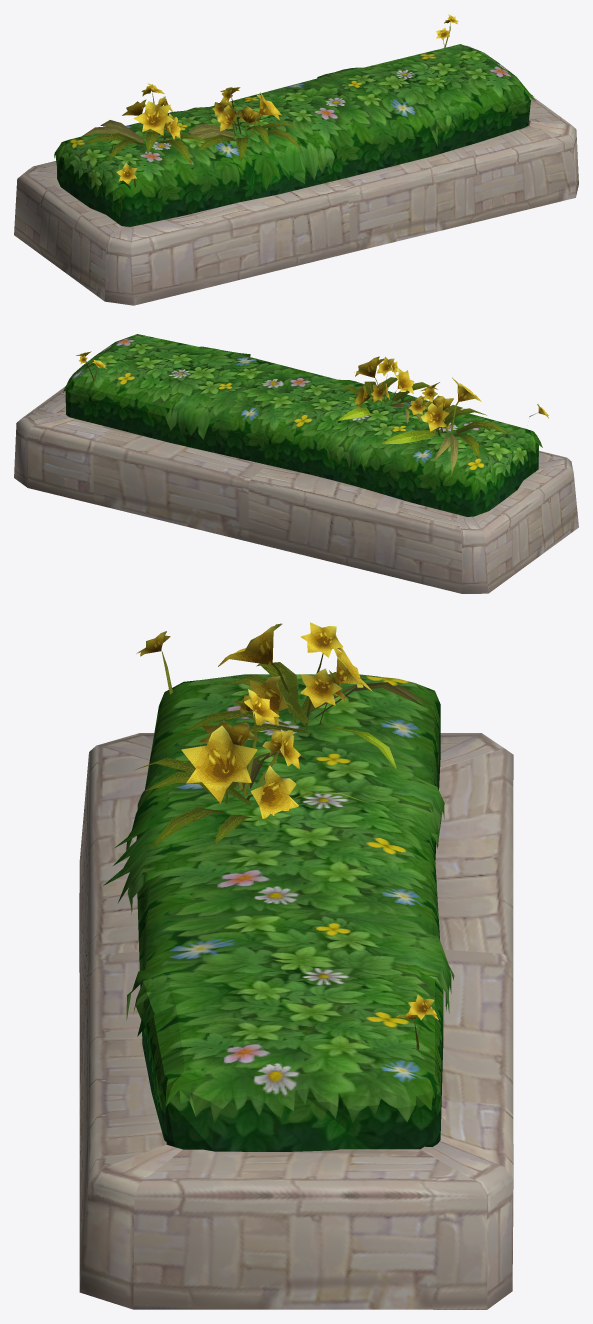
3 views of the same model, one above another, from view 1: azimuth 30°, elevation 25°; view 2: azimuth 150°, elevation 25°; view 3: azimuth 270°, elevation 25° (orthographic). The views are drawn at different scales.
Parts seen in each view (by area): view 1: wq_wj015_03; view 2: wq_wj015_03; view 3: wq_wj015_03.
Part boxes in pixels (x1,y1,x2,y2): wq_wj015_03: [14, 14, 578, 305]; wq_wj015_03: [14, 334, 578, 593]; wq_wj015_03: [79, 622, 513, 1309].
Bounding box in the file's own units: 366 × 116 × 145.
